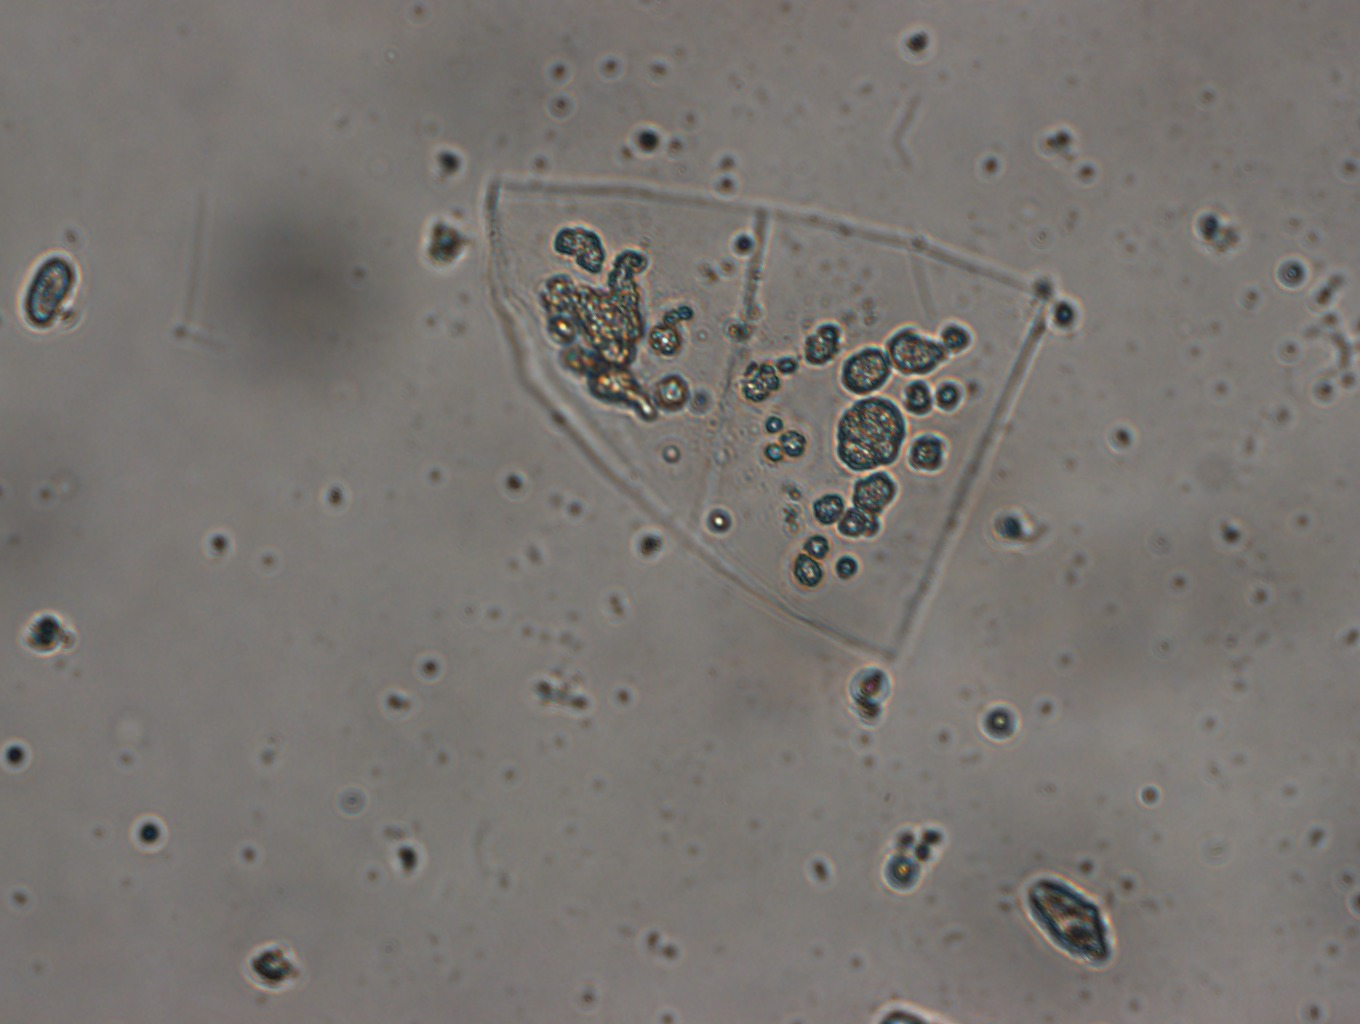helicotheca: (483, 171, 1060, 663)
